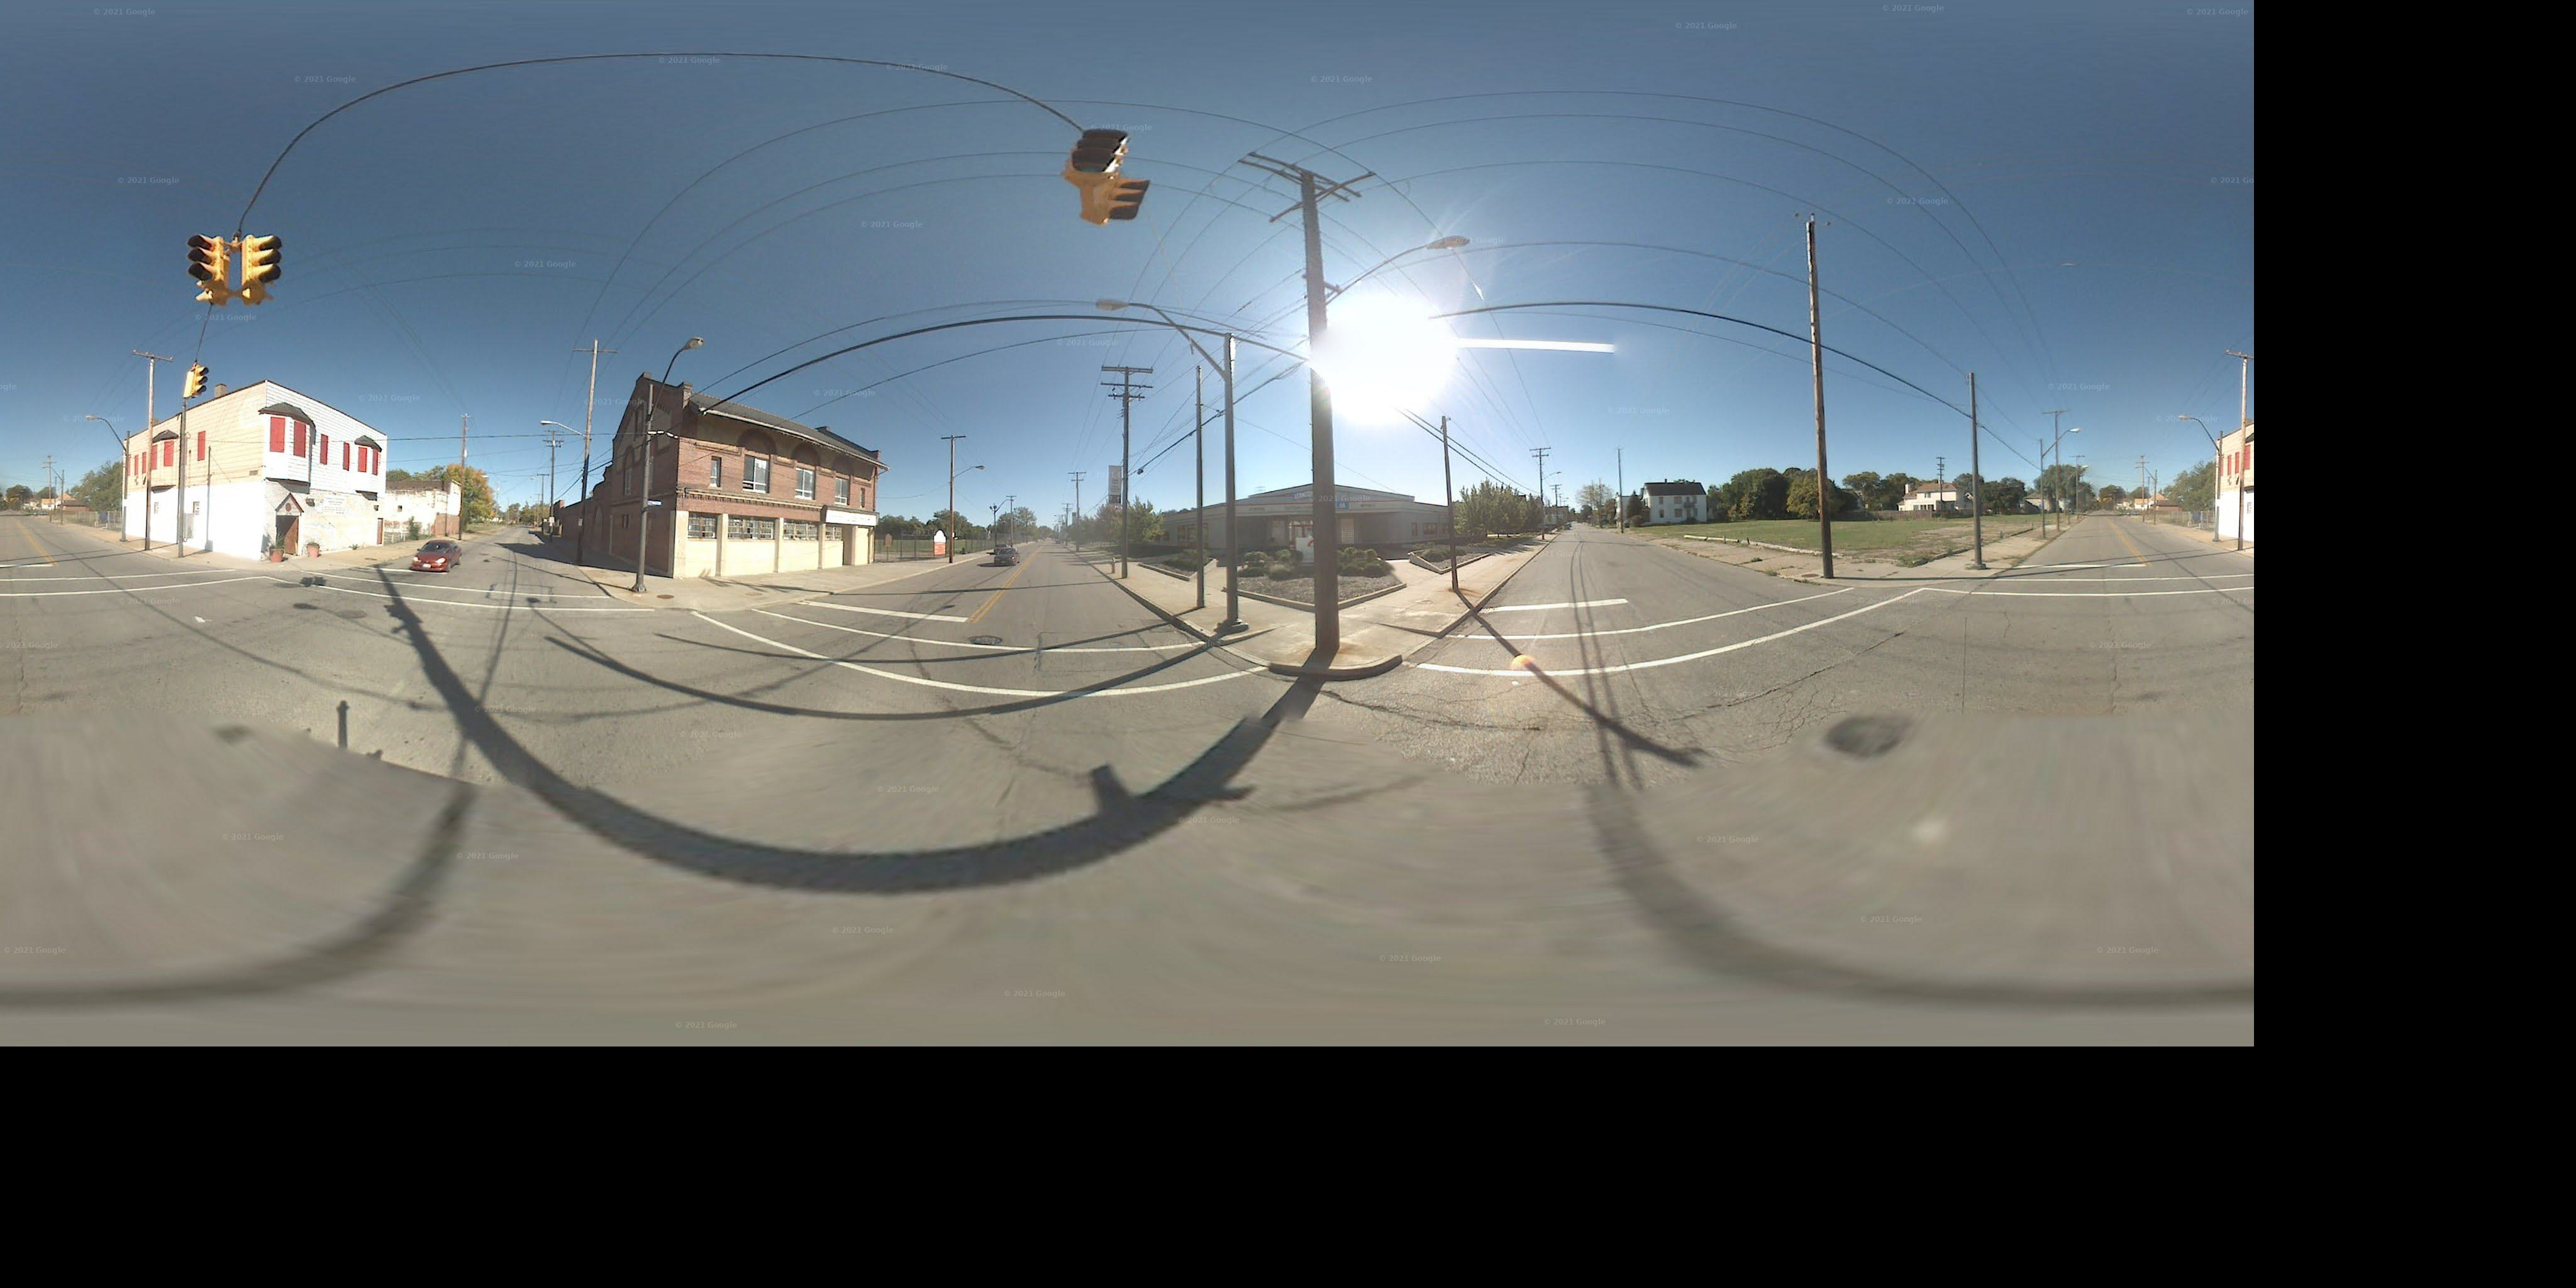Curb Ramp: (1848, 563, 1983, 598), (1216, 621, 1306, 669), (1354, 621, 1434, 662), (682, 591, 752, 619), (609, 588, 657, 611), (237, 562, 263, 577)
Missing Curb Ramp: (264, 563, 299, 577)
